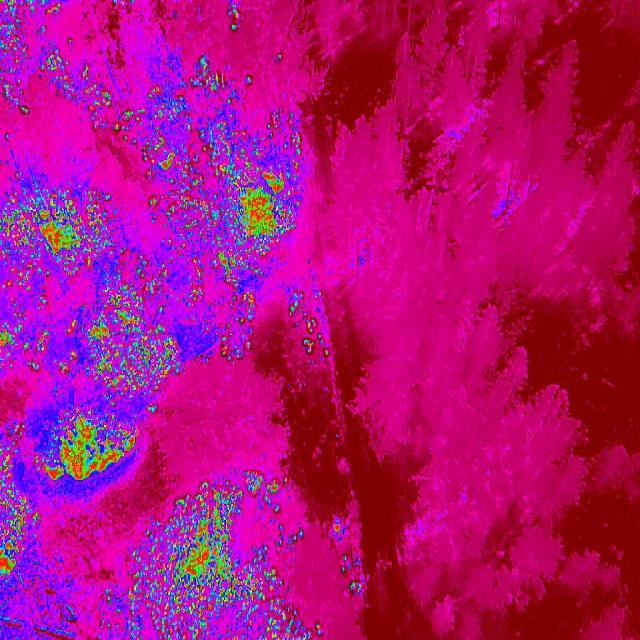fire: (113, 470, 299, 640), (198, 111, 304, 287), (66, 270, 187, 399), (0, 186, 113, 286), (35, 401, 157, 482), (41, 50, 130, 136), (128, 66, 192, 158), (145, 155, 204, 233), (0, 0, 62, 74), (214, 288, 269, 367), (286, 284, 339, 364), (156, 229, 207, 309), (0, 489, 39, 583), (0, 304, 31, 374), (191, 53, 236, 101), (0, 419, 26, 490), (2, 82, 34, 116), (340, 556, 362, 596), (222, 0, 244, 34), (58, 350, 80, 376), (298, 620, 326, 640), (37, 328, 52, 358), (332, 515, 343, 539), (244, 75, 253, 87), (273, 52, 282, 62)
